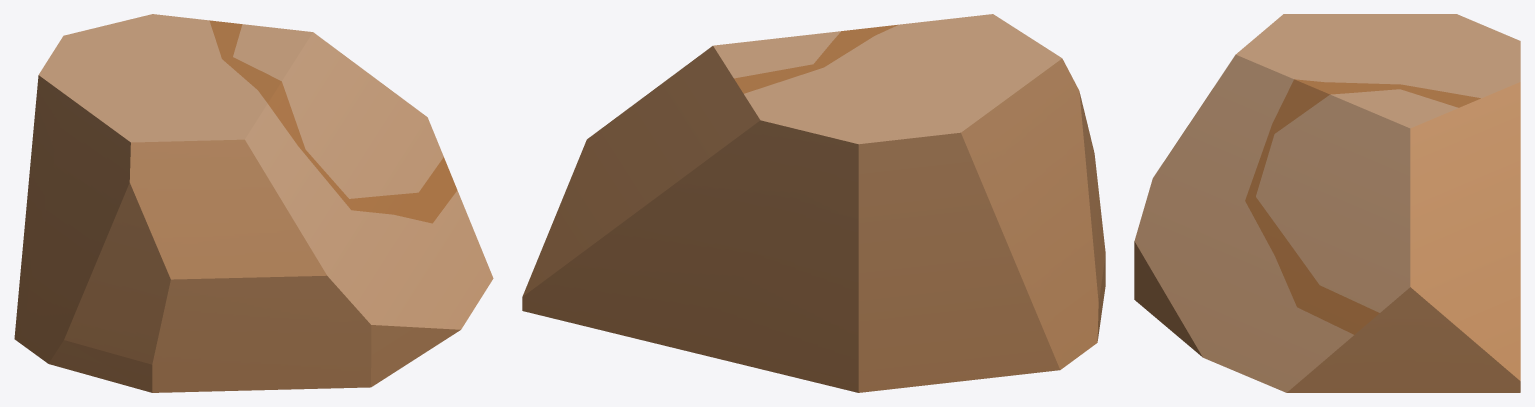
The model's file is ancient-stone-5.glb.
The picture shows the model from 3 angles, left to right: view 1: azimuth 30°, elevation 25°; view 2: azimuth 150°, elevation 25°; view 3: azimuth 270°, elevation 25°; orthographic projection. The views are drawn at different scales.
Parts seen in each view (by area): view 1: ancient stone 5; view 2: ancient stone 5; view 3: ancient stone 5.
Boxes of the visible parts, x1,y1,x2,y2 form: ancient stone 5: (14,14,493,392); ancient stone 5: (522,14,1105,392); ancient stone 5: (1134,14,1520,392).
Size of the model in its own units: 1.64 by 0.8394 by 1.39.
1 material, 1 textured.
